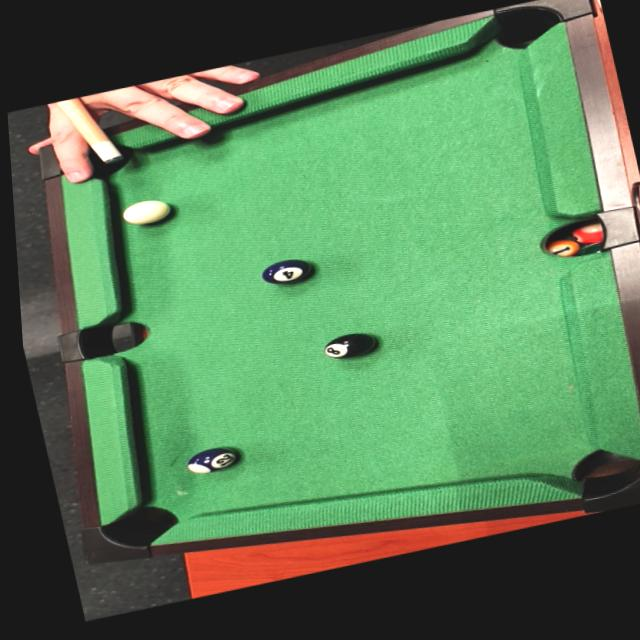cue ball: (120, 192, 176, 229)
other: (319, 326, 384, 366), (179, 439, 244, 477), (258, 252, 317, 289)
